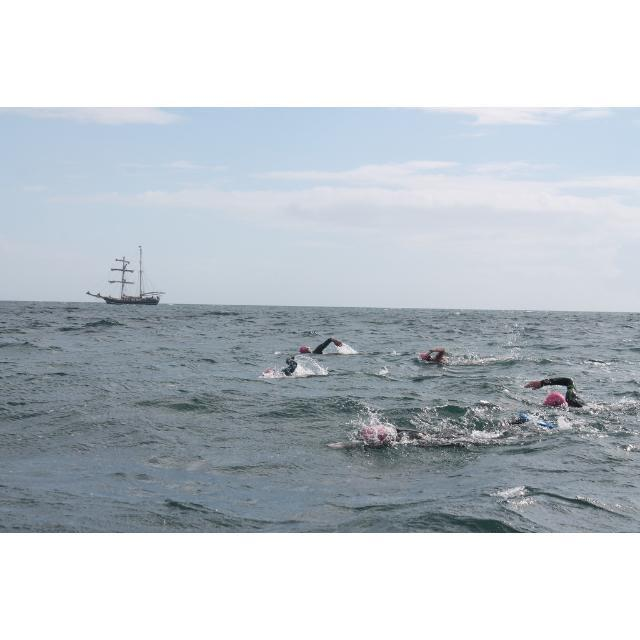human: (527, 373, 592, 414), (298, 336, 343, 359), (263, 358, 301, 380), (422, 347, 448, 368)
